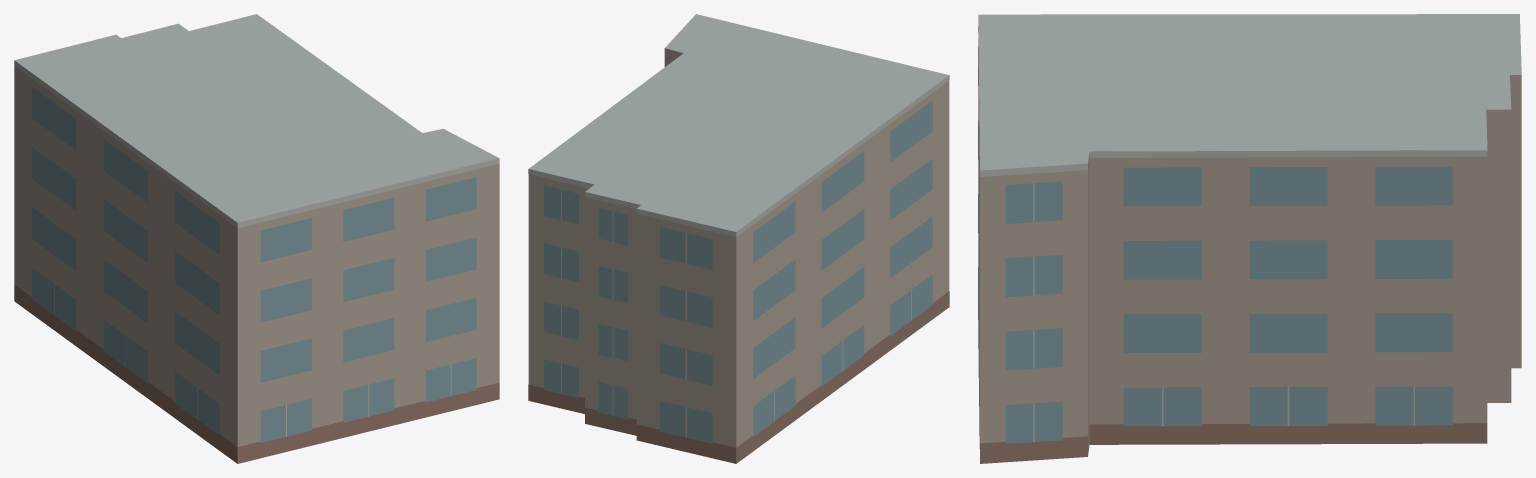
Rendered from survey-upis-32498745.glb.
3 renders of one model, left to right at view 1: azimuth 30°, elevation 25°; view 2: azimuth 150°, elevation 25°; view 3: azimuth 270°, elevation 25°, orthographic. The views are drawn at different scales.
Parts seen in each view (by area): view 1: survey-upis-32498745.tmp; view 2: survey-upis-32498745.tmp; view 3: survey-upis-32498745.tmp.
Part boxes in pixels (x1=…): survey-upis-32498745.tmp: x1=14, y1=14, x2=499, y2=463; survey-upis-32498745.tmp: x1=528, y1=14, x2=949, y2=463; survey-upis-32498745.tmp: x1=978, y1=14, x2=1521, y2=463.
Bounding box in the file's own units: 12.53 × 10.94 × 18.39.
